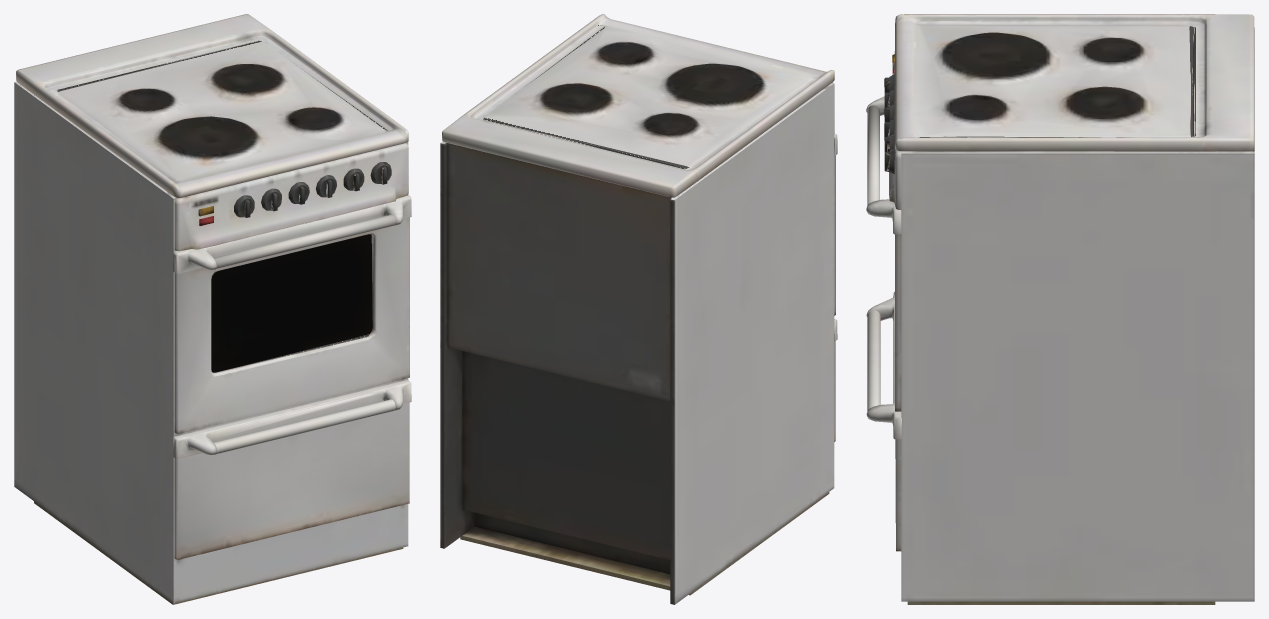
The model's file is electric_stove.glb.
3 renders of one model, left to right at view 1: azimuth 30°, elevation 25°; view 2: azimuth 150°, elevation 25°; view 3: azimuth 270°, elevation 25°, orthographic. The views are drawn at different scales.
Visible parts, largest first — view 1: stovetop, door_top; view 2: stovetop; view 3: stovetop.
Boxes of the visible parts, bbox=[...] form: stovetop: bbox=[14, 14, 411, 604]; door_top: bbox=[211, 234, 372, 372]; stovetop: bbox=[440, 14, 837, 604]; stovetop: bbox=[866, 14, 1254, 604].
Bounding box in the file's own units: 0.5026 × 0.8587 × 0.6477.
2 materials, 2 textured.
